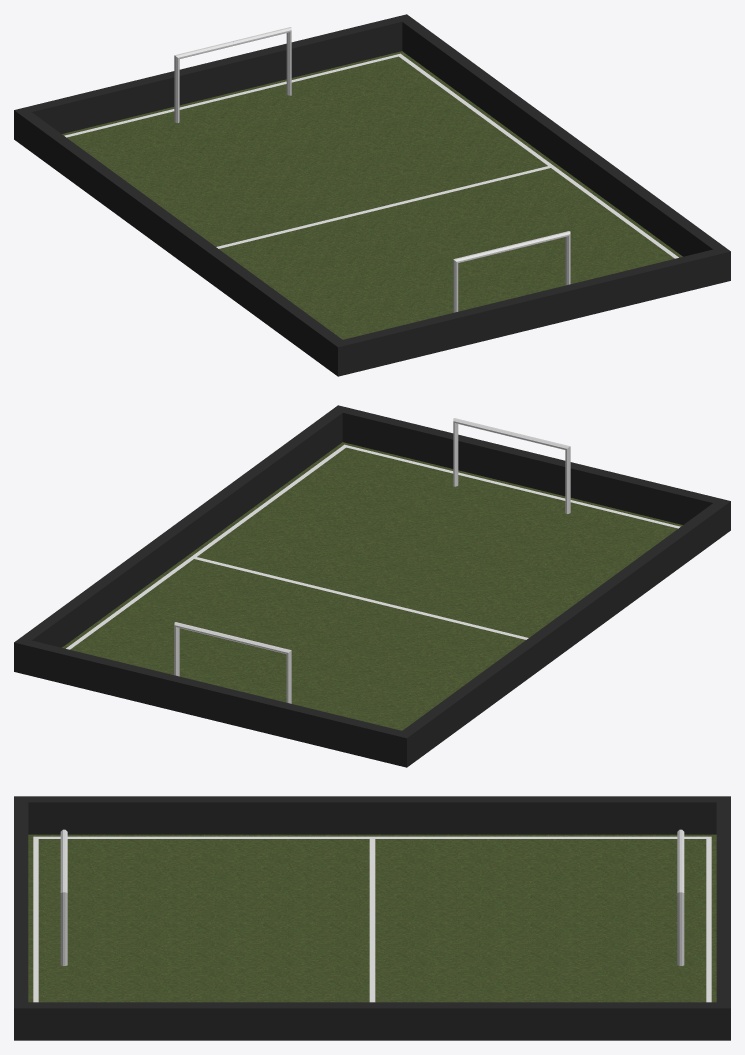
File: mini_soccer_field.glb
The picture shows the model from 3 angles, top to bottom: view 1: azimuth 30°, elevation 25°; view 2: azimuth 150°, elevation 25°; view 3: azimuth 270°, elevation 25°; orthographic projection. The views are drawn at different scales.
Visible parts, largest first — view 1: Plane, Cube.001, Cube; view 2: Plane, Cube.001, Cube; view 3: Plane, Cube.001, Cube.
Part boxes in pixels (x1=…): Plane: x1=62, y1=51, x2=682, y2=339; Cube.001: x1=14, y1=14, x2=730, y2=376; Cube: x1=174, y1=27, x2=570, y2=312; Plane: x1=62, y1=442, x2=682, y2=730; Cube.001: x1=14, y1=405, x2=730, y2=767; Cube: x1=174, y1=418, x2=570, y2=703; Plane: x1=28, y1=834, x2=716, y2=1002; Cube.001: x1=14, y1=796, x2=730, y2=1040; Cube: x1=60, y1=829, x2=684, y2=965.
Bounding box in the file's own units: 14 × 2.27 × 20.
Materials: 4 (1 with a texture image).
